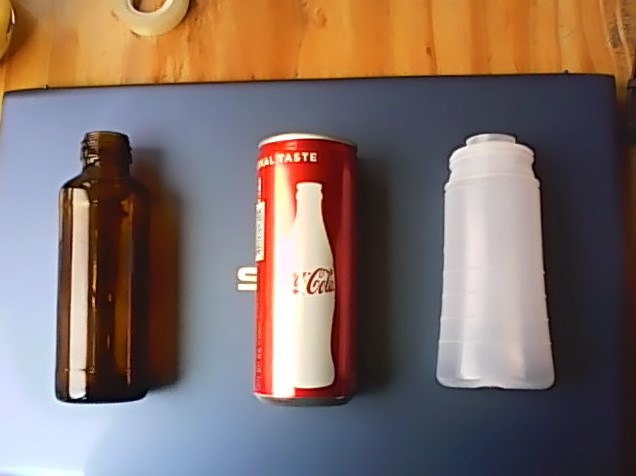Can: (250, 128, 362, 414)
Glass: (50, 127, 152, 407)
Plastic: (429, 125, 559, 395)
